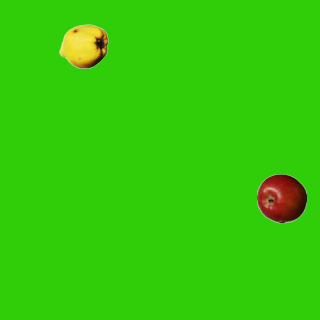Apple Braeburn: (256, 173, 306, 223)
Quince: (58, 21, 108, 71)
